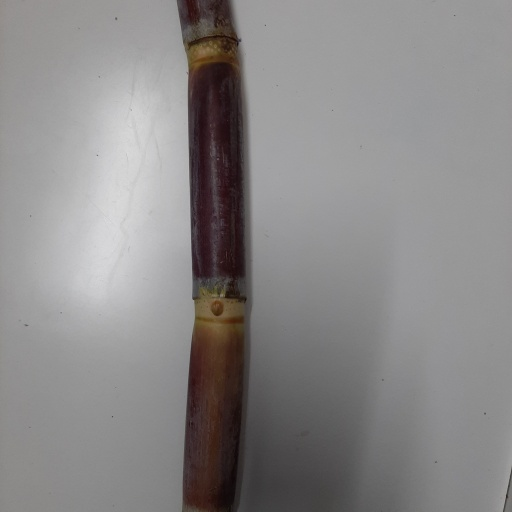Bud: (208, 300, 225, 316)
